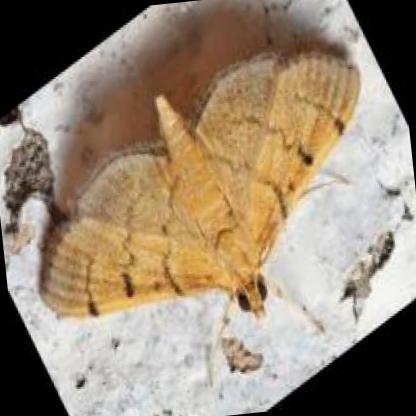Leaf Webber: (38, 49, 360, 327)
